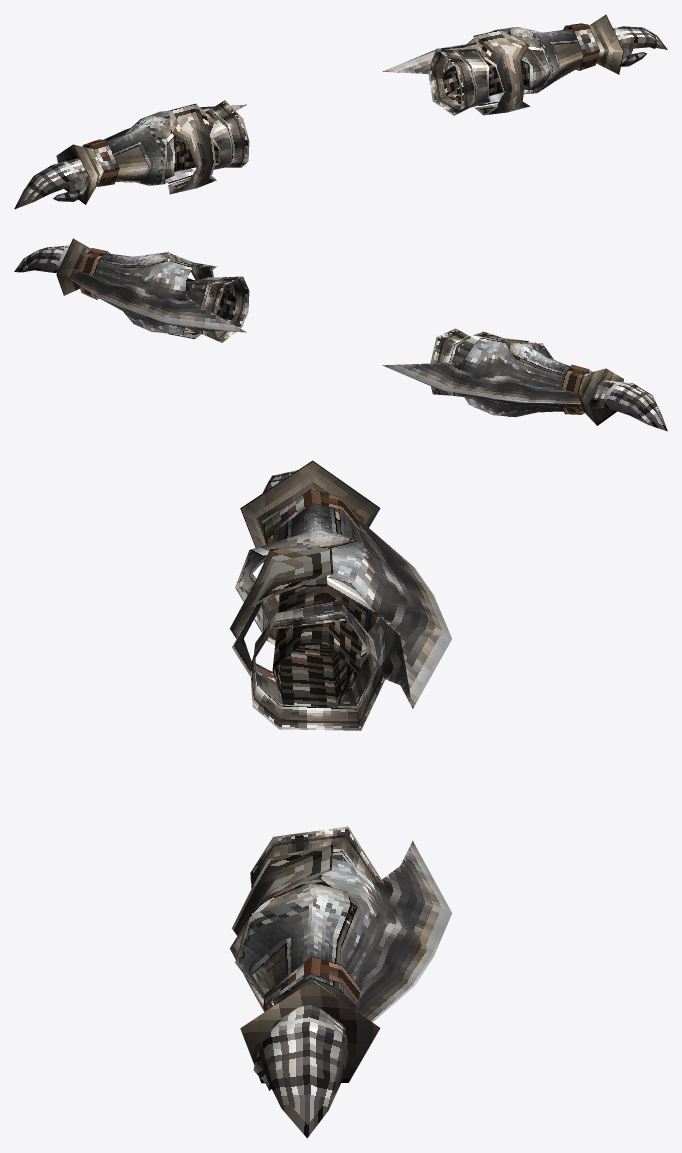
Rendered from f_arm205.glb.
3 views of the same model, one above another, from view 1: azimuth 30°, elevation 25°; view 2: azimuth 150°, elevation 25°; view 3: azimuth 270°, elevation 25° (orthographic). The views are drawn at different scales.
Bounding box in the file's own units: 181 × 19.62 × 26.69.
1 material, 1 textured.
